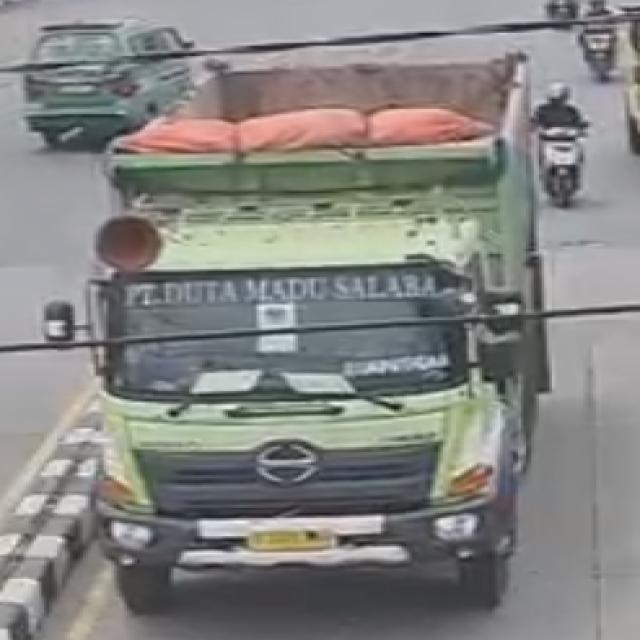truck: (90, 54, 548, 619)
